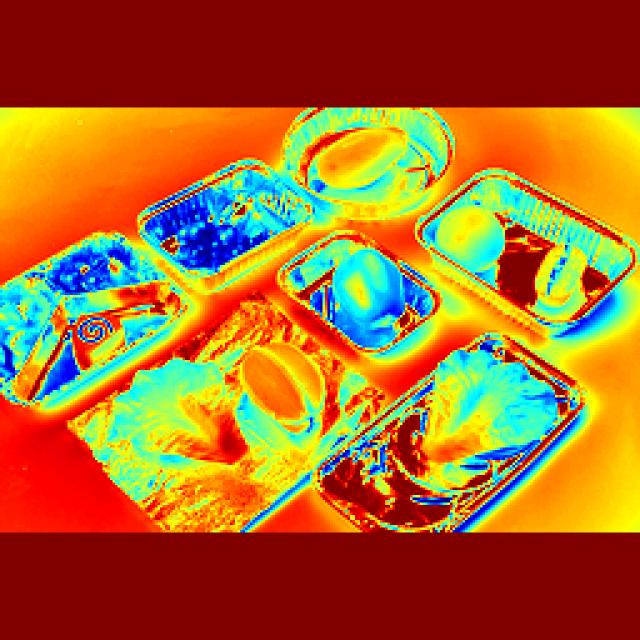Aluminium Food Cans: (21, 111, 478, 526)
